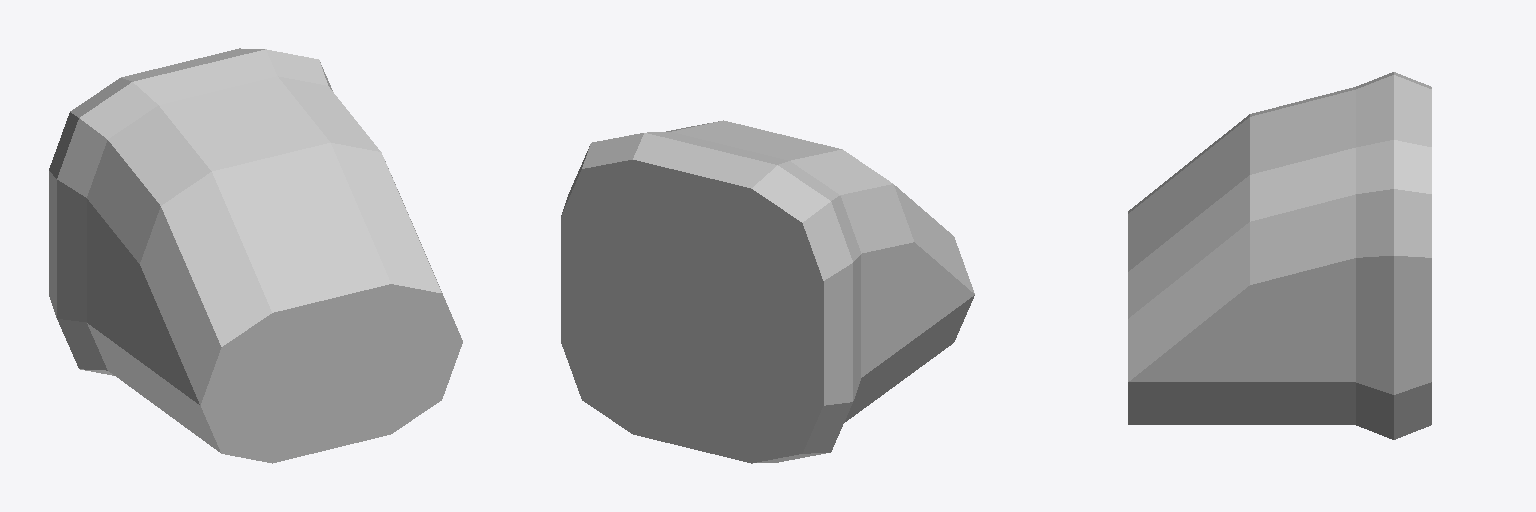
File: block-snow-edge.obj
The picture shows the model from 3 angles: view 1: azimuth 30°, elevation 25°; view 2: azimuth 150°, elevation 25°; view 3: azimuth 270°, elevation 25°; orthographic projection.
Visible parts, largest first — view 1: block-snow-edge; view 2: block-snow-edge; view 3: block-snow-edge.
Boxes of the visible parts, x1,y1,x2,y2 form: block-snow-edge: [49, 48, 462, 463]; block-snow-edge: [561, 120, 974, 463]; block-snow-edge: [1128, 72, 1431, 439].
Size of the model in its own units: 1.08 by 1.08 by 1.